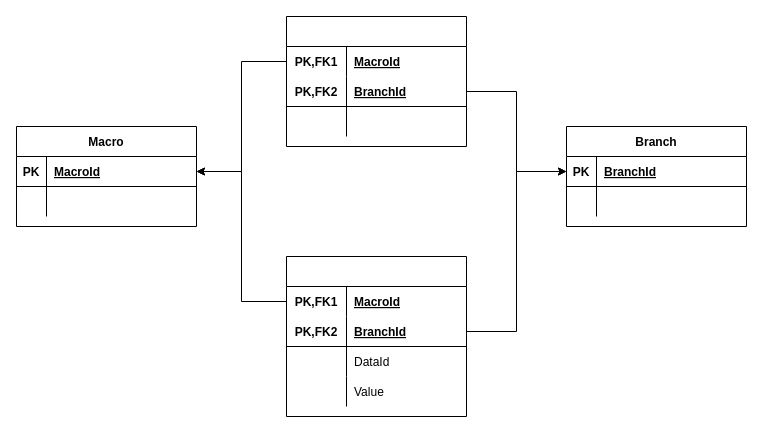
The diagram is 763 pixels wide and 433 high, and some of its shapes have lost their labels. The shapes that lost their labels are listed below. From the top down, each one's box as (x1, y1, x2, y2) in pixels, then its label:
(286, 16, 466, 146): SpecMacroBranchMatric
(286, 256, 466, 416): SpecMacroBranch
